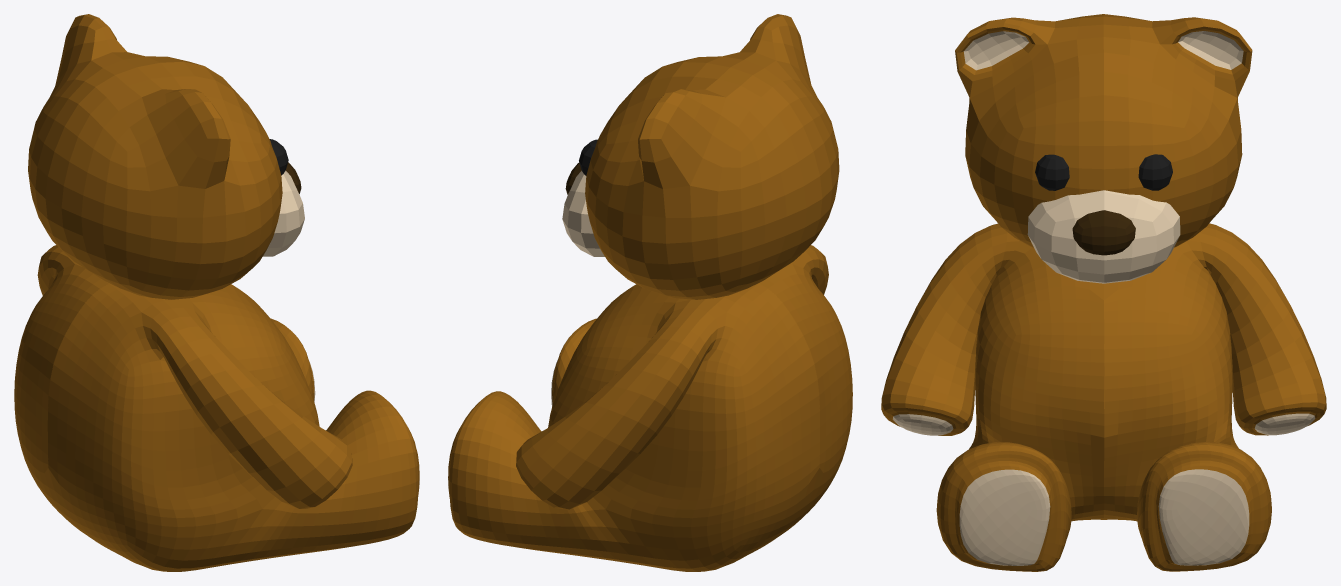
The model's file is stuffed_bear.fbx.
The picture shows the model from 3 angles, left to right: view 1: azimuth 30°, elevation 25°; view 2: azimuth 150°, elevation 25°; view 3: azimuth 270°, elevation 25°; orthographic projection. The views are drawn at different scales.
Parts seen in each view (by area): view 1: Bear; view 2: Bear; view 3: Bear.
Part boxes in pixels (<box>): Bear: <box>14,14,419,571</box>; Bear: <box>448,14,852,571</box>; Bear: <box>881,14,1326,571</box>.
Size of the model in its own units: 186 by 289 by 245.
1 material, 1 textured.
